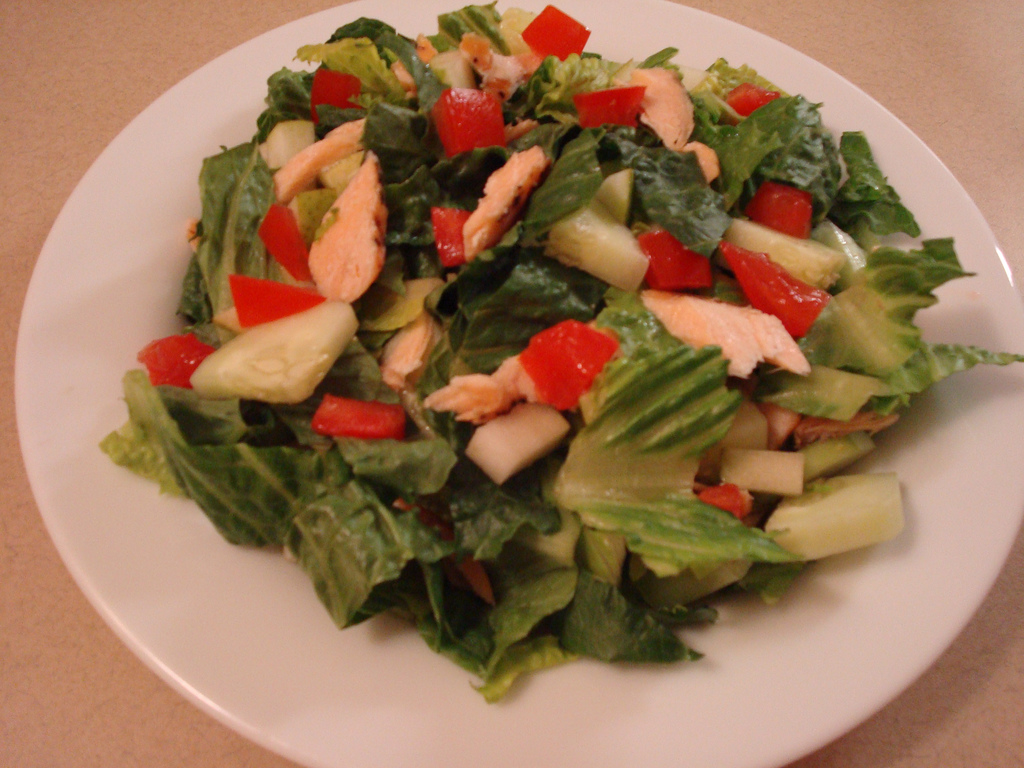chopped lettuce: (145, 379, 468, 609), (750, 209, 965, 381), (583, 363, 758, 573)
